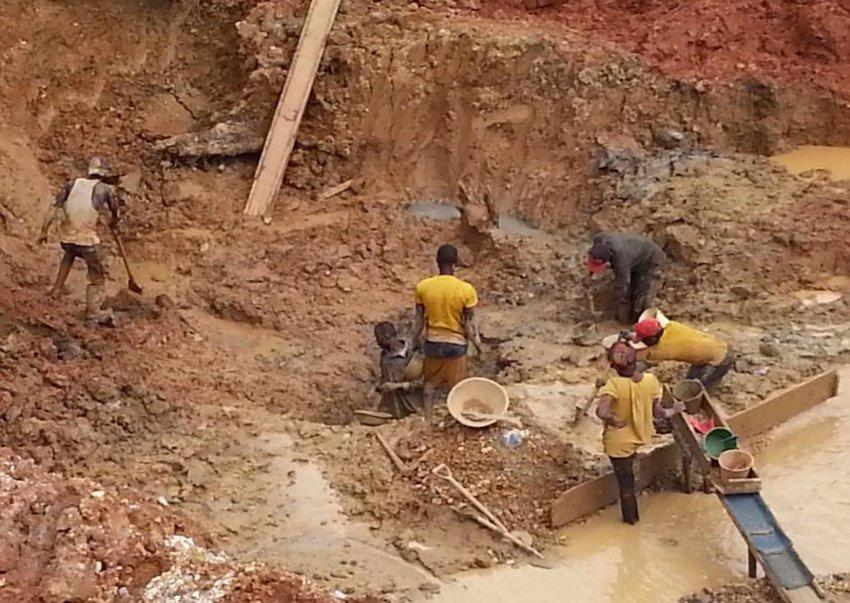MiningTool: (433, 462, 536, 552), (444, 376, 510, 428), (104, 225, 146, 298), (371, 428, 426, 481), (700, 426, 738, 462), (718, 448, 756, 483), (670, 378, 706, 413), (579, 284, 603, 317), (568, 320, 596, 348), (637, 306, 672, 328), (353, 406, 392, 425), (400, 352, 424, 382)
Person: (596, 340, 685, 531), (414, 240, 487, 427), (38, 154, 119, 322), (626, 316, 738, 393), (583, 230, 672, 322), (367, 320, 425, 423)
ProcessingEquipment: (656, 377, 834, 603), (225, 1, 348, 220)
